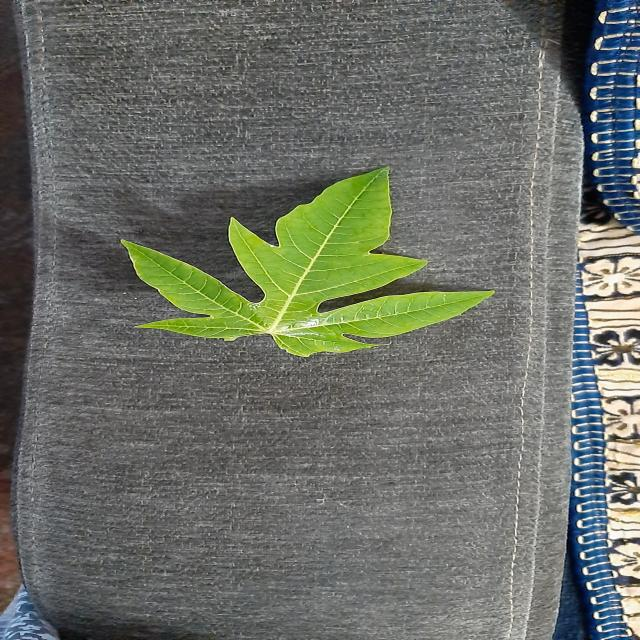papaya: (122, 168, 493, 356)
